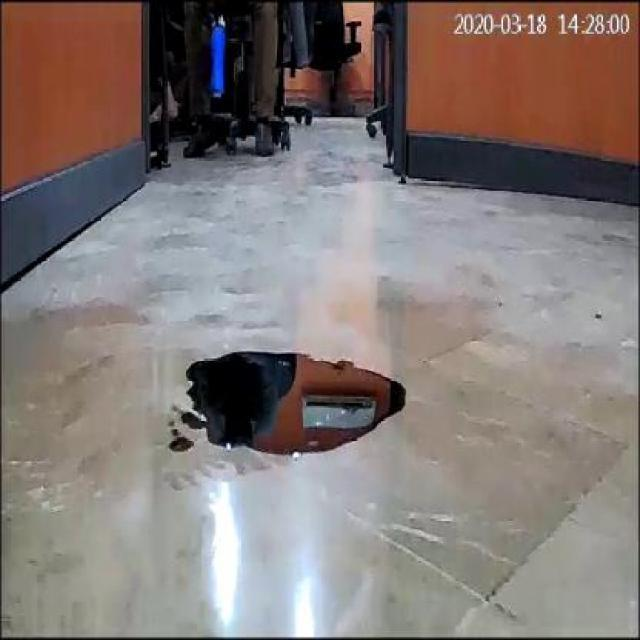spill: (178, 347, 402, 458)
